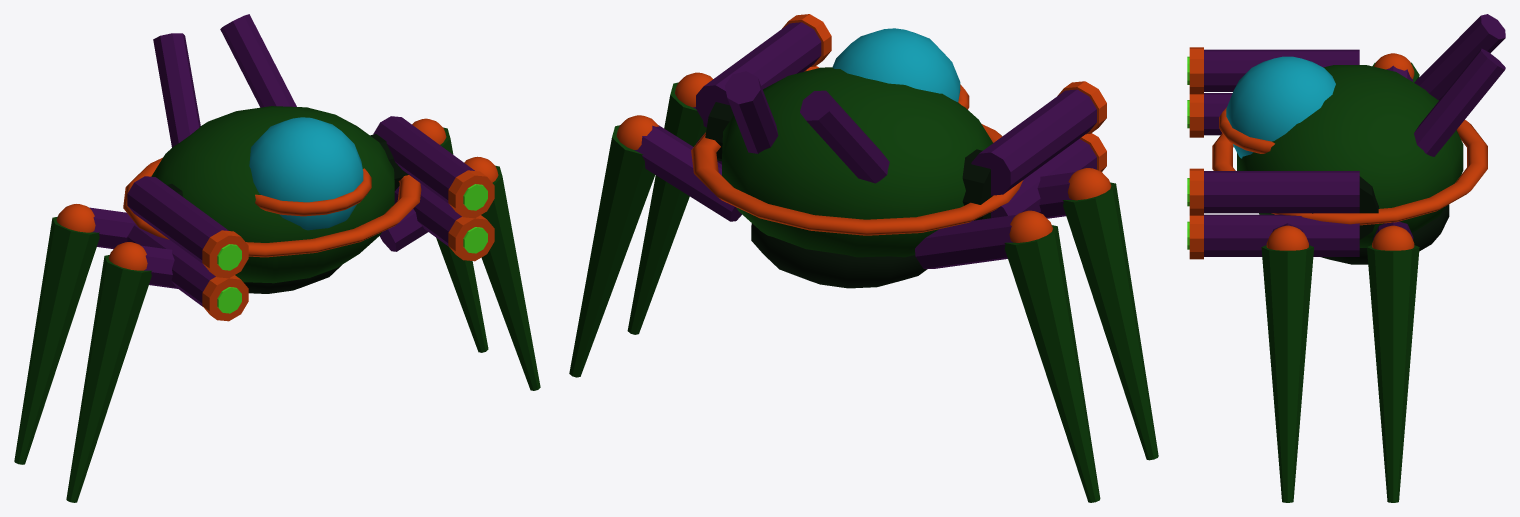
Rendered from Enemy_nest.fbx.
3 views of the same model, side by side, from view 1: azimuth 30°, elevation 25°; view 2: azimuth 150°, elevation 25°; view 3: azimuth 270°, elevation 25° (orthographic). The views are drawn at different scales.
Parts seen in each view (by area): view 1: Enemy_nest; view 2: Enemy_nest; view 3: Enemy_nest.
Boxes of the visible parts, <box> form: Enemy_nest: <box>14,14,540,502</box>; Enemy_nest: <box>569,14,1158,502</box>; Enemy_nest: <box>1187,14,1505,502</box>.
Size of the model in its own units: 1.15 by 0.819 by 0.6649.
